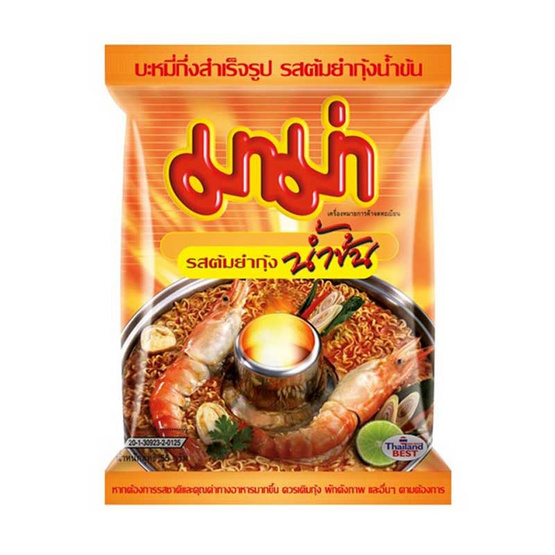Snack: (97, 39, 464, 512)
